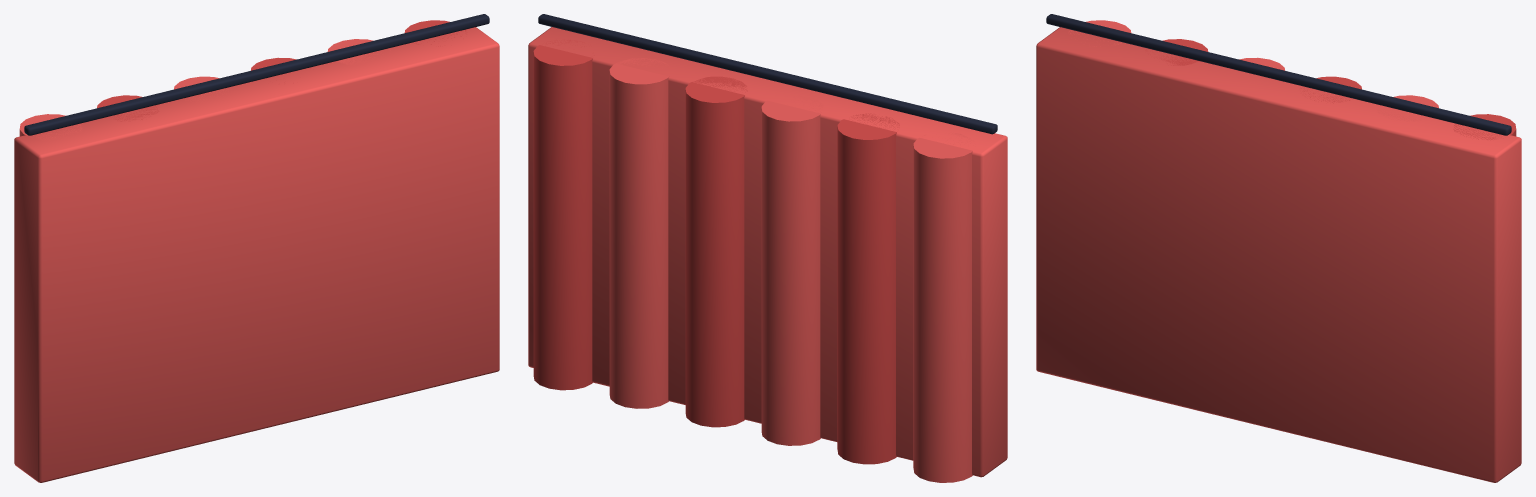
The model's file is env_curtain_v2.glb.
3 renders of one model, left to right at view 1: azimuth 30°, elevation 25°; view 2: azimuth 150°, elevation 25°; view 3: azimuth 330°, elevation 25°, orthographic.
Visible parts, largest first — view 1: CurtainV2; view 2: CurtainV2; view 3: CurtainV2.
Part boxes in pixels (left/top/right/bottom): CurtainV2: left=14, top=14, right=499, bottom=482; CurtainV2: left=528, top=14, right=1007, bottom=482; CurtainV2: left=1036, top=14, right=1521, bottom=482.
Size of the model in its own units: 5 by 3.6 by 0.8.
